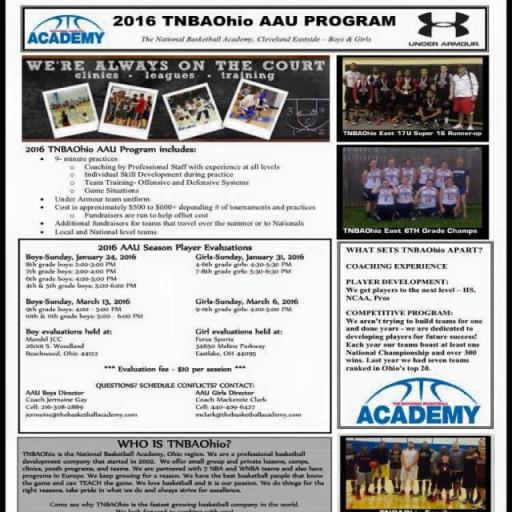Under Armour: (403, 8, 486, 50)
